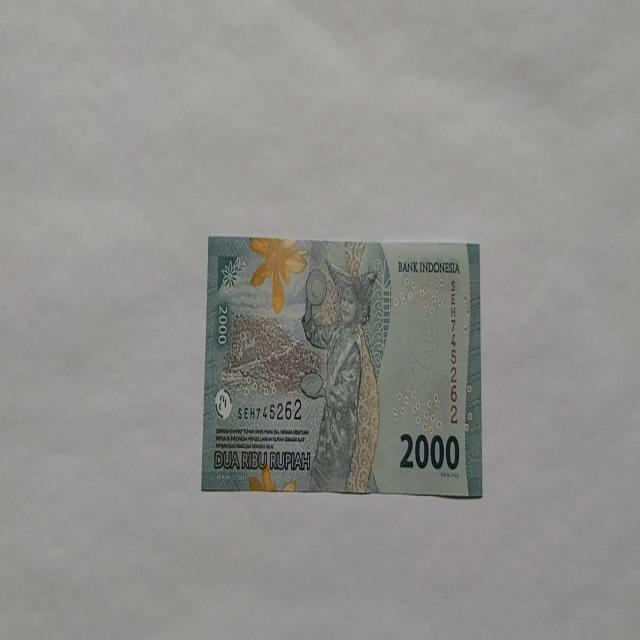dua ribu rupiah: (200, 235, 482, 498), (299, 255, 381, 493)
